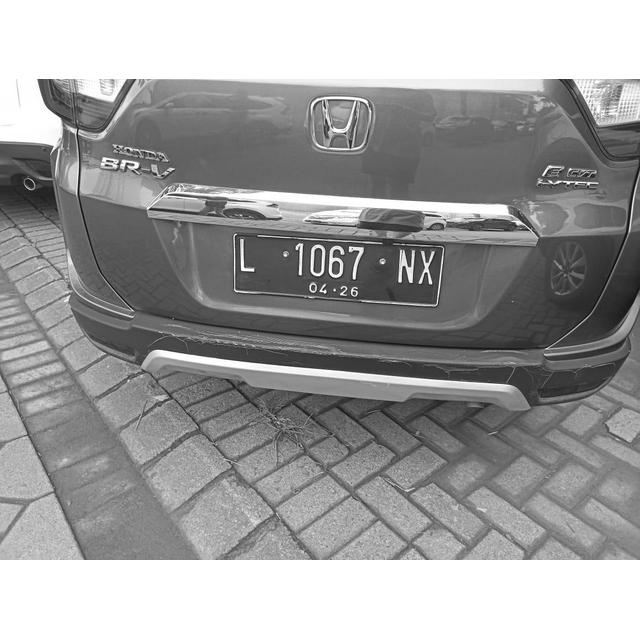license: (237, 236, 439, 303)
